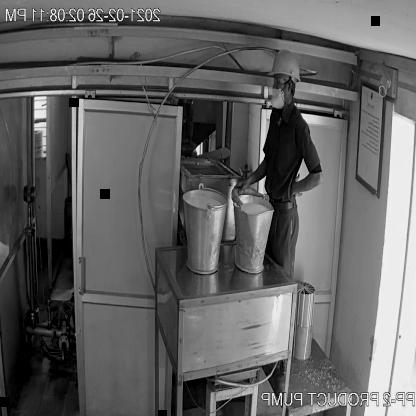helmet: (266, 44, 307, 85)
